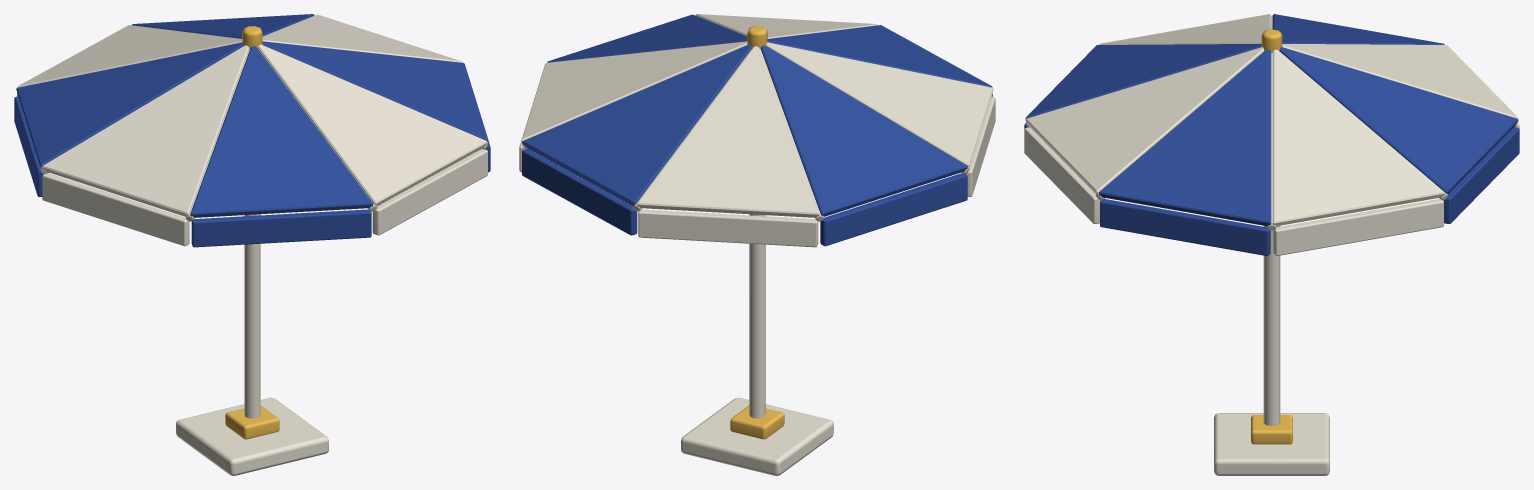
Rendered from parasol.glb.
The picture shows the model from 3 angles, left to right: view 1: azimuth 30°, elevation 25°; view 2: azimuth 150°, elevation 25°; view 3: azimuth 270°, elevation 25°; orthographic projection.
Visible parts, largest first — view 1: Canopy.002, Canopy.003, Canopy.001, Canopy.004, Canopy, Base, Valance.002, Canopy.005, Valance.003, Canopy.007, Valance.001, Pole (+3 smaller); view 2: Canopy.005, Canopy.004, Canopy.006, Canopy.003, Canopy.007, Base, Valance.005, Canopy.002, Valance.004, Canopy, Valance.006, Pole (+3 smaller); view 3: Canopy, Canopy.007, Canopy.001, Canopy.006, Canopy.002, Canopy.005, Base, Valance, Valance.007, Pole, Canopy.003, Canopy.004 (+3 smaller).
Part boxes in pixels (box(x1,y1,x2,y2)): Canopy.002: box(190, 46, 373, 217); Canopy.003: box(42, 45, 249, 216); Canopy.001: box(258, 44, 487, 205); Canopy.004: box(16, 42, 243, 167); Canopy: box(262, 41, 488, 142); Base: box(176, 397, 328, 475); Valance.002: box(191, 209, 371, 247); Canopy.005: box(17, 25, 242, 87); Valance.003: box(42, 173, 189, 246); Canopy.007: box(262, 14, 462, 62); Valance.001: box(372, 149, 487, 235); Pole: box(244, 214, 260, 418); Canopy.005: box(636, 46, 819, 217); Canopy.004: box(760, 45, 967, 216); Canopy.006: box(522, 44, 751, 205); Canopy.003: box(766, 42, 993, 167); Canopy.007: box(521, 41, 747, 142); Base: box(681, 397, 833, 475); Valance.005: box(638, 209, 818, 247); Canopy.002: box(767, 25, 992, 87); Valance.004: box(820, 173, 967, 246); Canopy: box(547, 14, 747, 62); Valance.006: box(522, 149, 637, 235); Pole: box(749, 214, 765, 418); Canopy: box(1099, 49, 1271, 226); Canopy.007: box(1272, 49, 1444, 226); Canopy.001: box(1025, 47, 1264, 193); Canopy.006: box(1279, 47, 1518, 193); Canopy.002: box(1025, 44, 1261, 119); Canopy.005: box(1282, 44, 1518, 119); Base: box(1214, 413, 1329, 475); Valance: box(1100, 199, 1270, 255); Valance.007: box(1273, 199, 1443, 255); Pole: box(1263, 225, 1280, 425); Canopy.003: box(1099, 14, 1271, 44); Canopy.004: box(1272, 14, 1444, 44).
Size of the model in its own units: 3.07 by 2.88 by 3.07.
